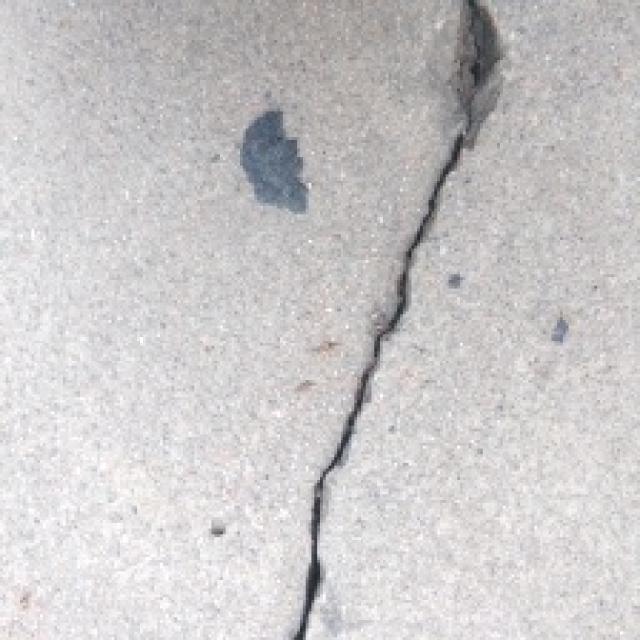crack: (284, 0, 524, 640)
